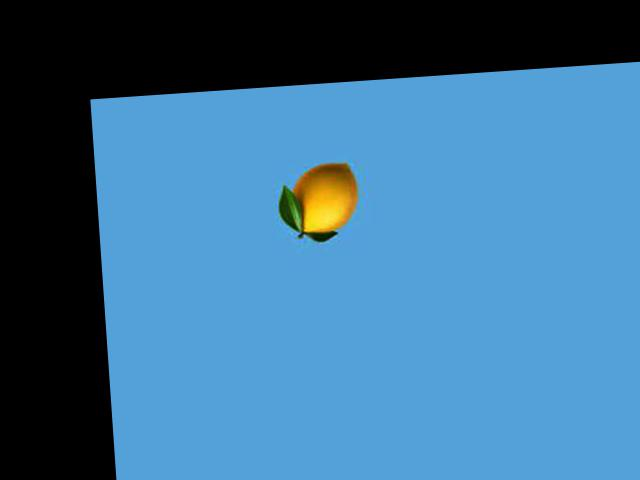lemon: (272, 143, 379, 250)
